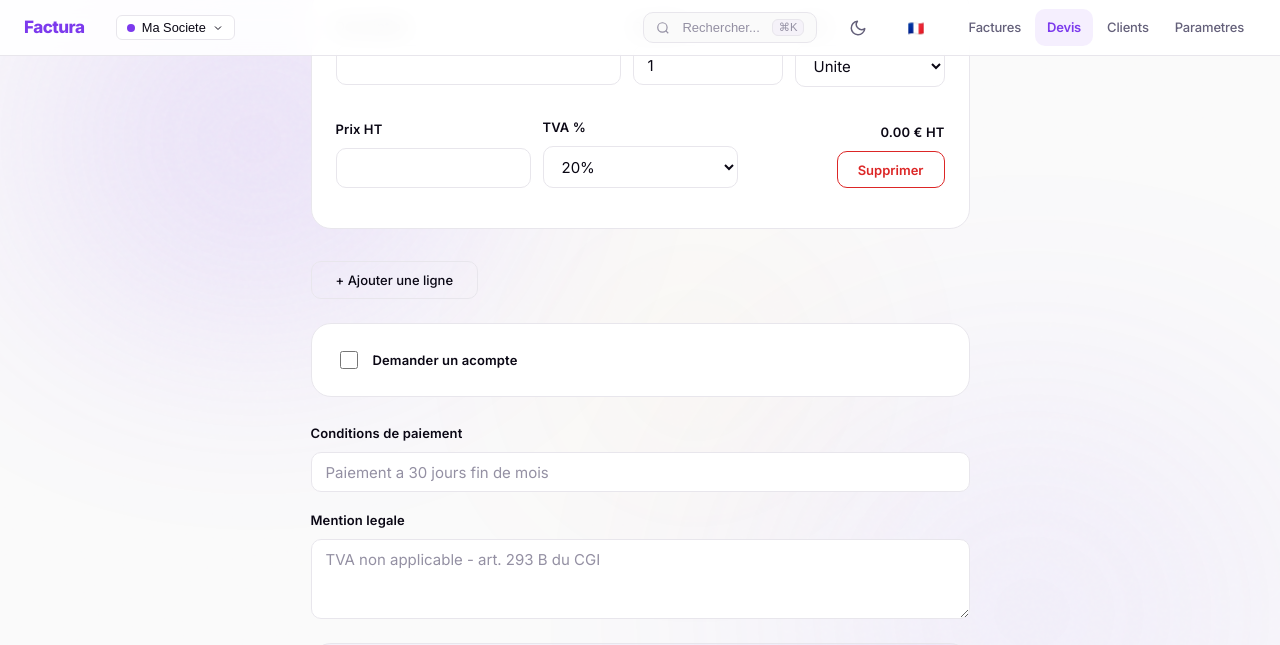
Scenario: Devis › affiche le formulaire de creation avec acompte
(page scrolled)
expect the element with id "deposit-toggle" is not checked: met
Note: Activer l'acompte
Check the checkbox with id "deposit-toggle" at (349, 360), box [340,351,358,369]
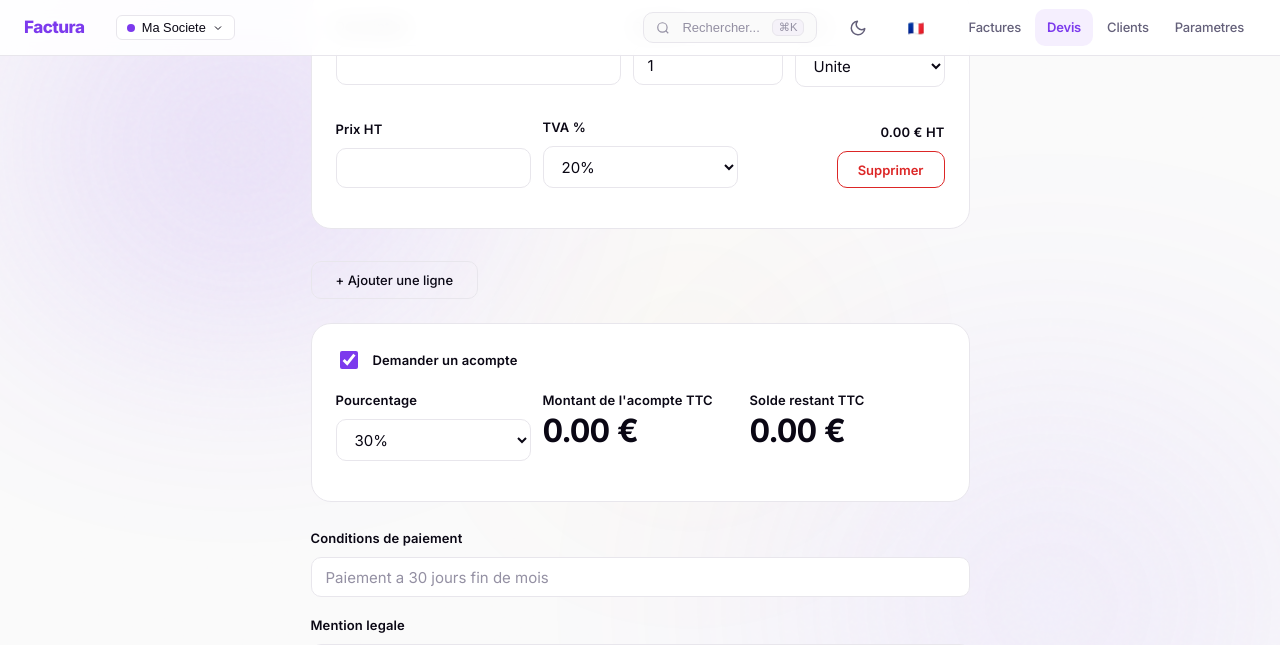
expect the text "Pourcentage" is shown: met, box [336,392,417,408]
expect the text "Montant de l'acompte TTC" is shown: met, box [542,388,738,413]
expect the text "Solde restant TTC" is shown: met, box [750,392,864,408]
